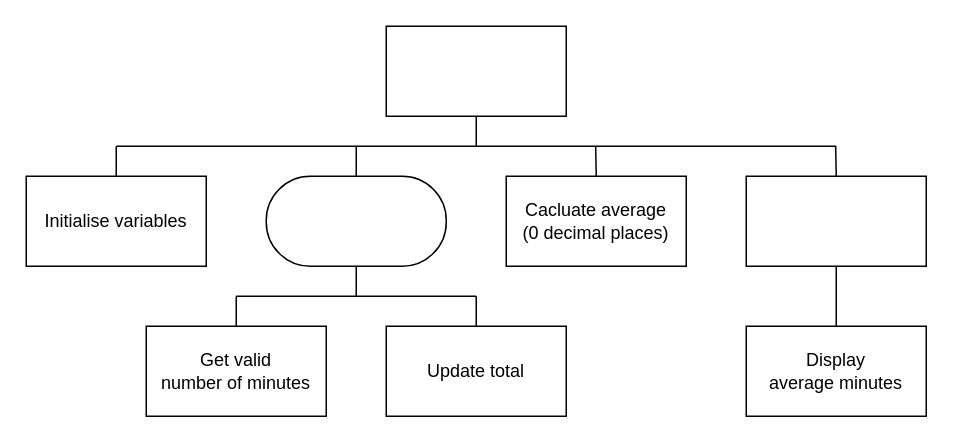
Some shapes in this 953 by 443 pixel diagram are drawn without their labels. The shapes that lost their labels are listed below. From the top down, each one's box as (x1, y1, x2, y2) in pixels, then its label:
(385, 25, 566, 116): Homework Calculator
(265, 175, 446, 266): Loop for each day
(745, 175, 926, 266): Display total minutes
